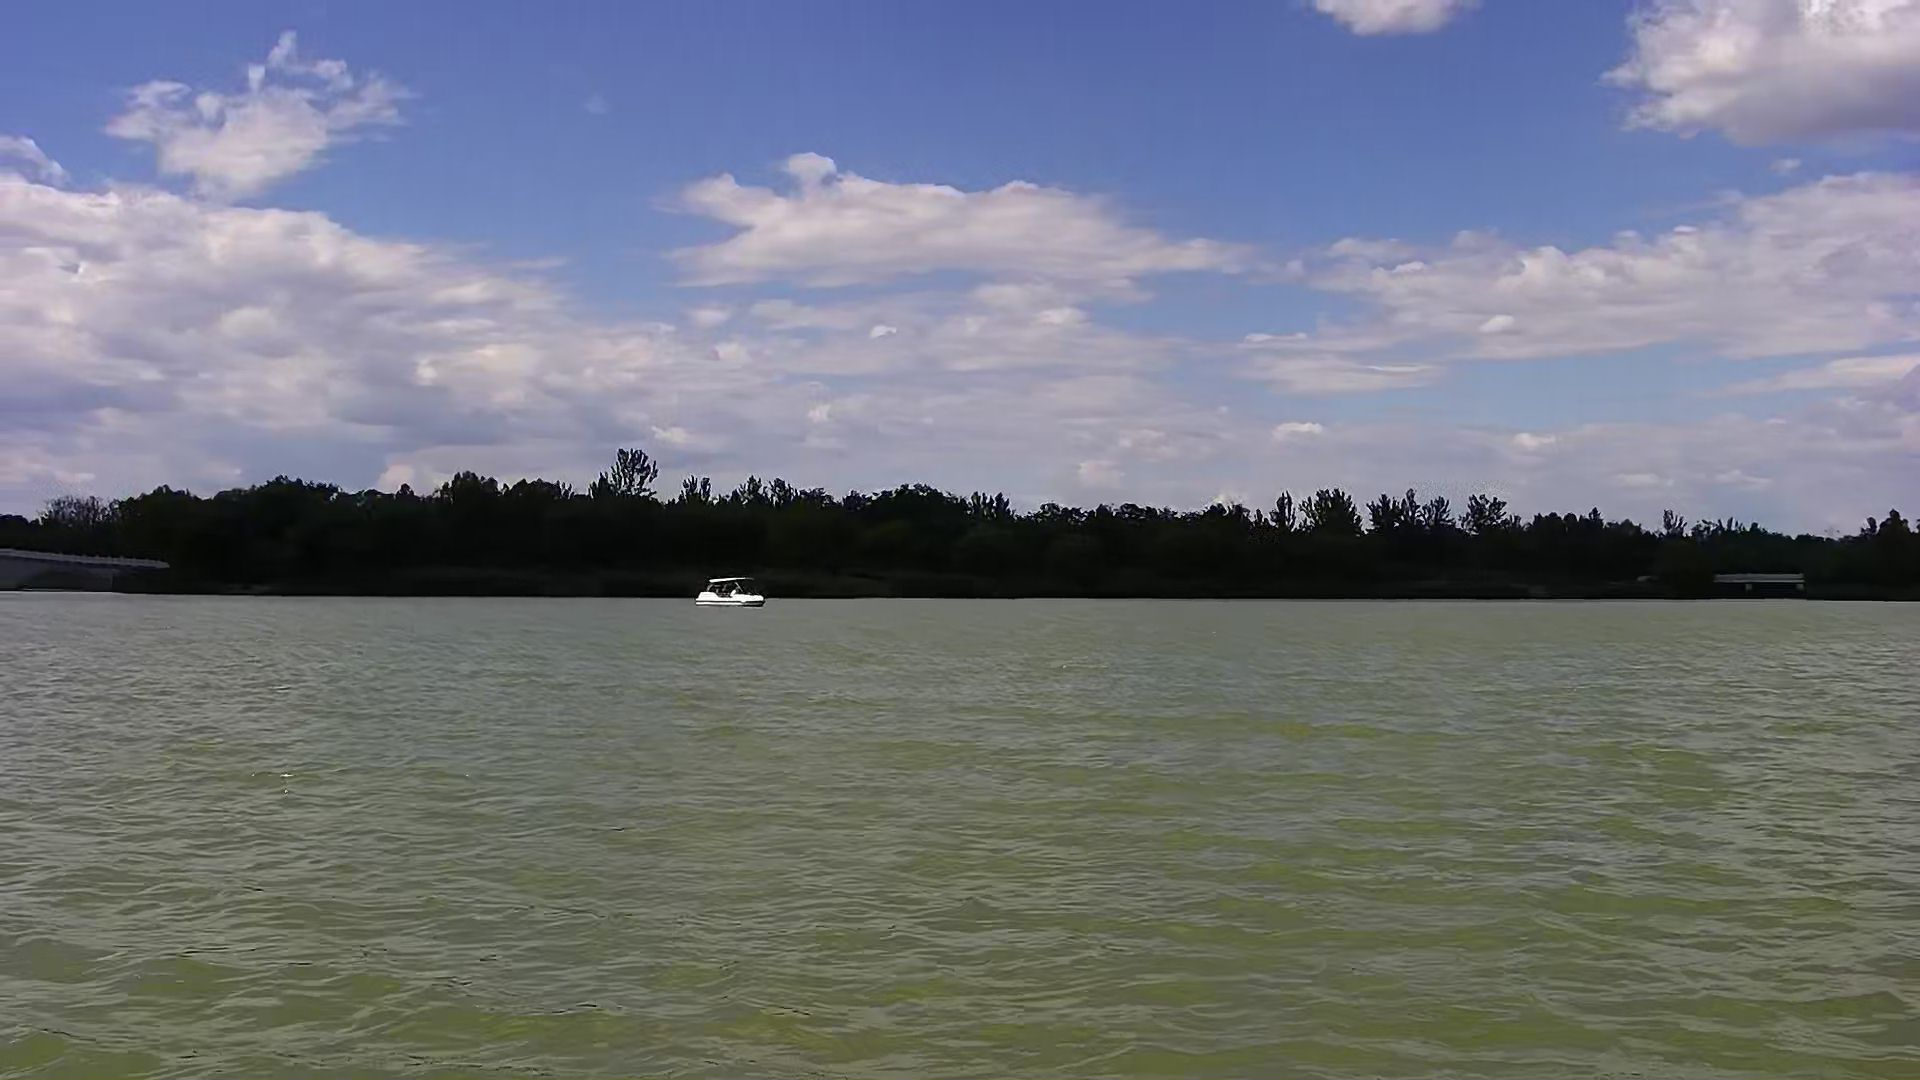boat: (690, 568, 771, 612)
